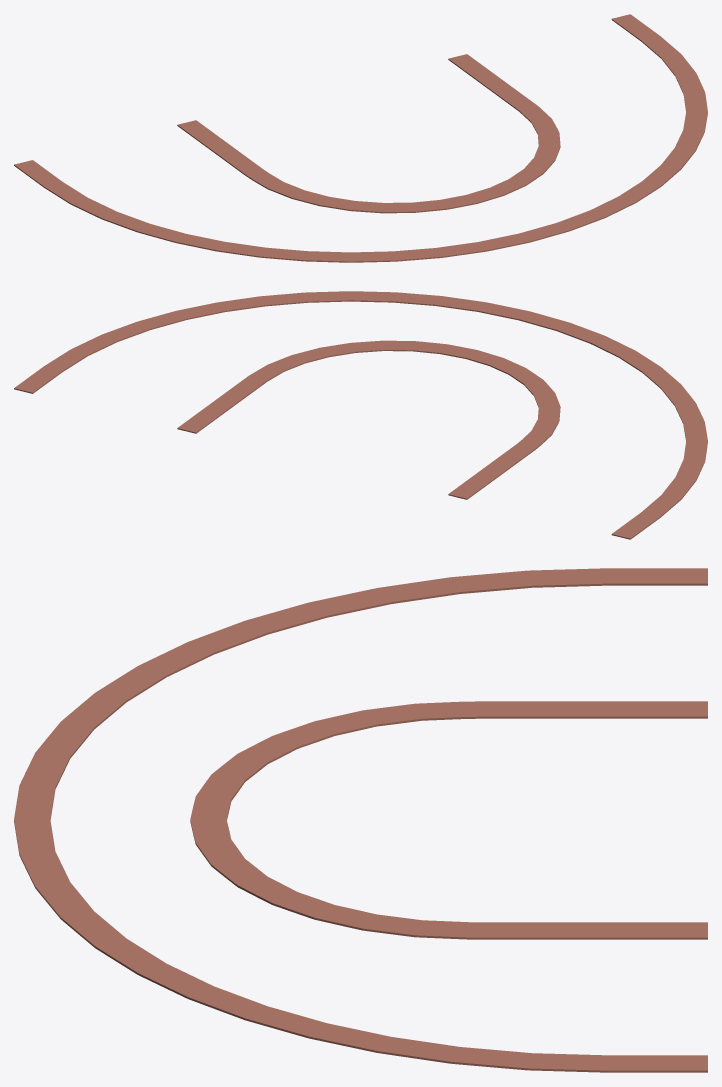
Rendered from tile-hoop-circle.glb.
3 views of the same model, one above another, from view 1: azimuth 30°, elevation 25°; view 2: azimuth 150°, elevation 25°; view 3: azimuth 270°, elevation 25° (orthographic). The views are drawn at different scales.
Parts seen in each view (by area): view 1: Hoop.Circle; view 2: Hoop.Circle; view 3: Hoop.Circle.
Boxes of the visible parts, box(x1,y1,x2,y2) form: Hoop.Circle: box(14, 14, 707, 262); Hoop.Circle: box(14, 291, 707, 539); Hoop.Circle: box(14, 568, 707, 1072).
Size of the model in its own units: 3.27 by 0.006 by 1.91.
